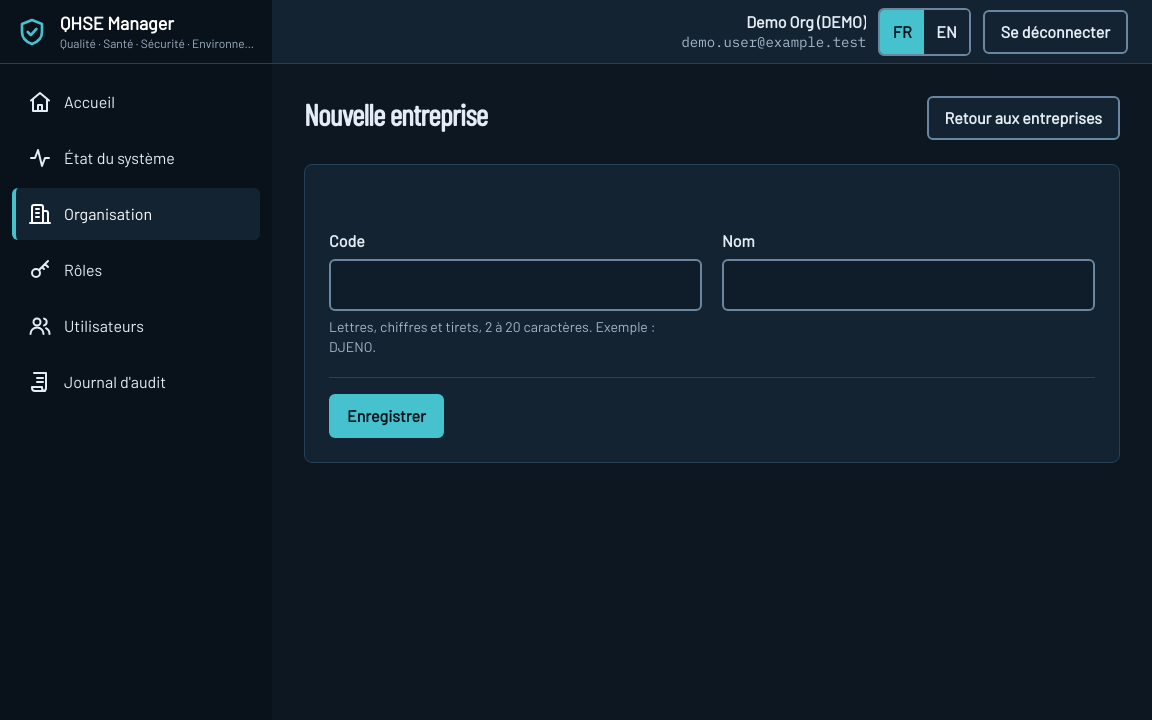
organisation forms › explains a code already in use
Type "ACME-CG" into the field labelled "Code". click: [516, 285]
box: 329,259 -> 702,311
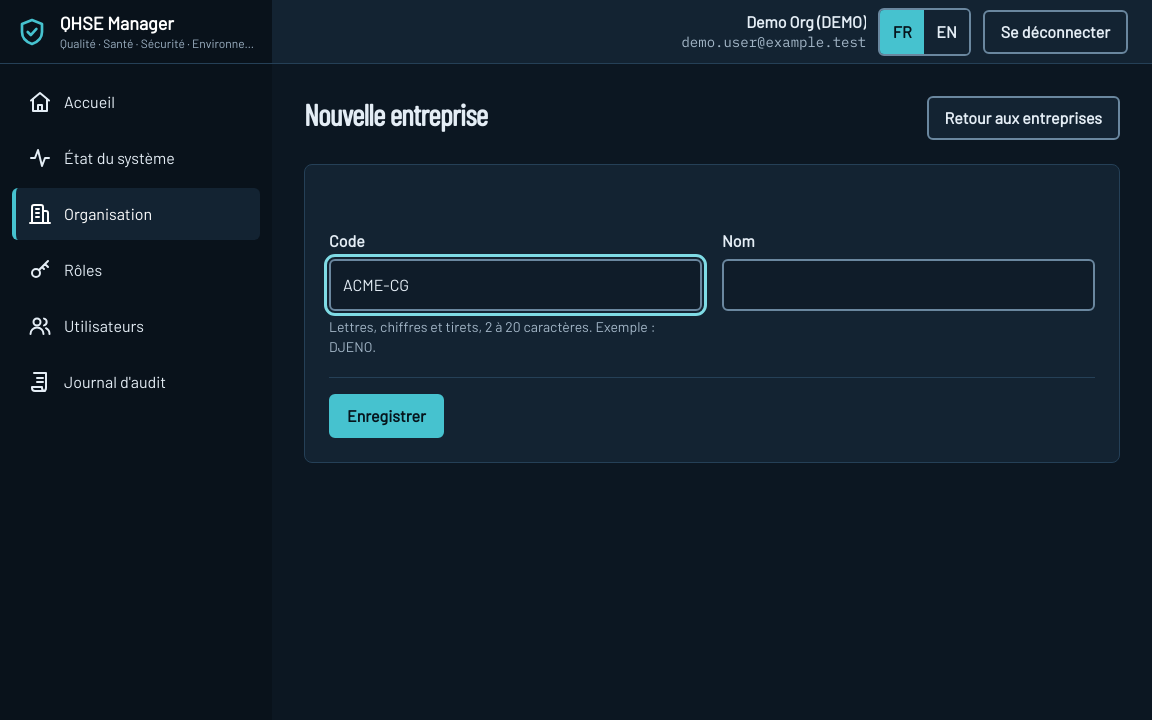
Type "ACME bis" into the field labelled "Nom". click: [908, 285]
box: 722,259 -> 1095,311
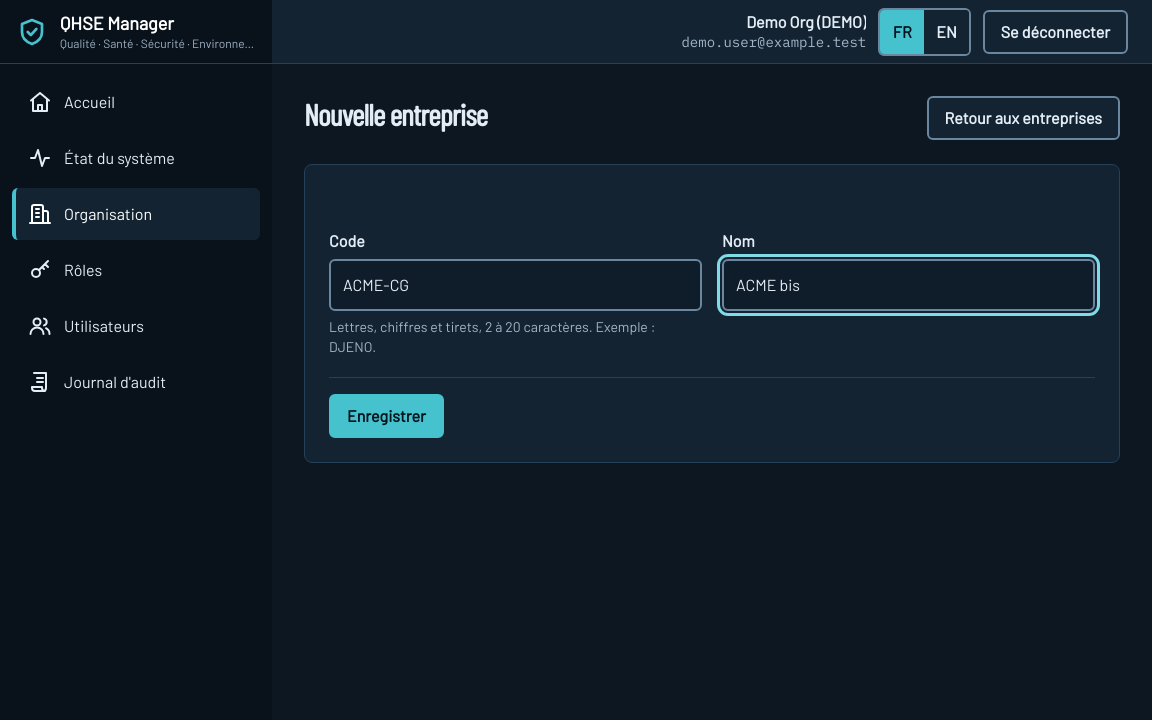
Click the button "Enregistrer". click: [386, 416]
box: 329,394 -> 444,438
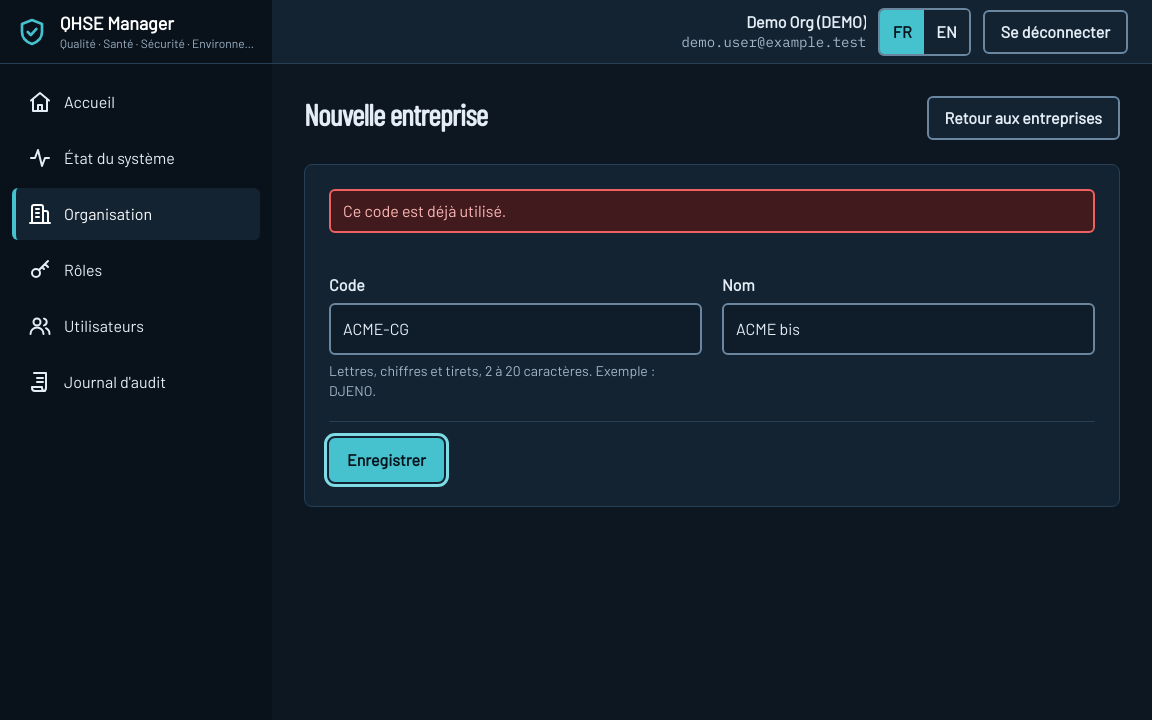
Result: the text "Ce code est déjà utilisé." is shown at 329,189 -> 1095,233
